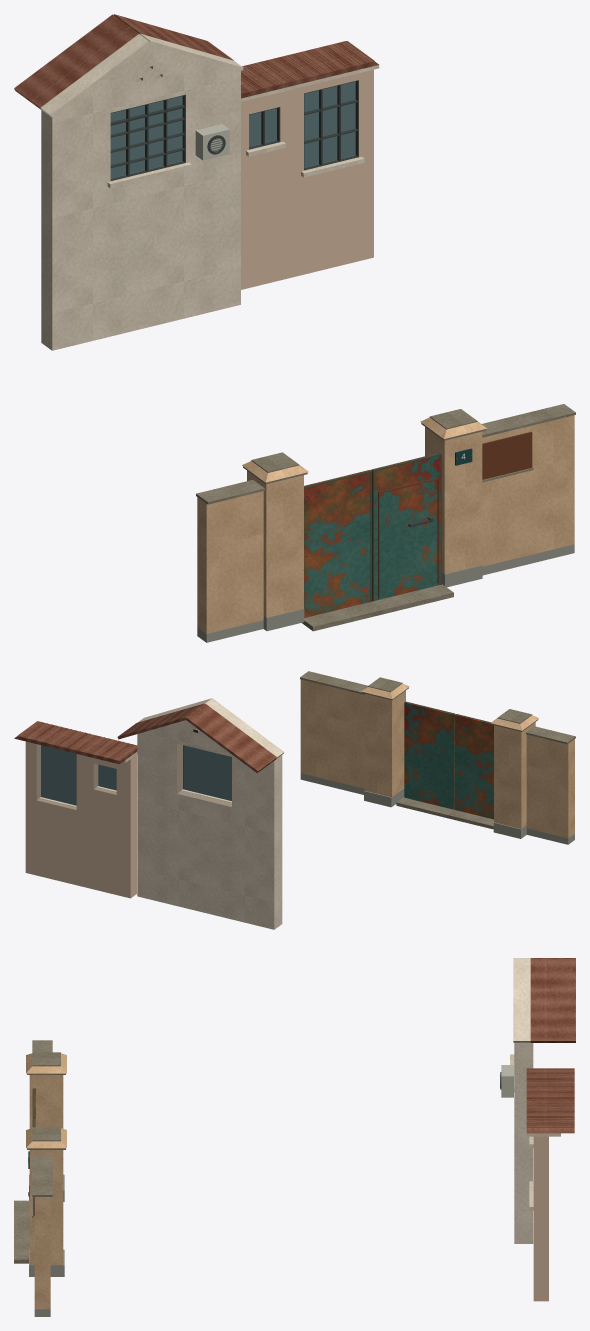
File: full.glb
The picture shows the model from 3 angles, top to bottom: view 1: azimuth 30°, elevation 25°; view 2: azimuth 150°, elevation 25°; view 3: azimuth 270°, elevation 25°; orthographic projection. The views are drawn at different scales.
Parts seen in each view (by area): view 1: 10.front-render-wall, 15.east-wing, 03.east-wall, 03.west-wall, 02.west-painted-iron-leaf, 02.east-painted-iron-leaf, 01.East-rendered-gatepost, 01.West-rendered-gatepost, 13.clay-roof-return, 15.east-wing-tiled-roof, 11.four-light-steel-window-glass, 15.wing-tall-window-glass (+15 smaller); view 2: 10.front-render-wall, 15.east-wing, 03.east-wall, 01.East-rendered-gatepost, 03.west-wall, 02.east-painted-iron-leaf, 01.West-rendered-gatepost, 02.west-painted-iron-leaf, 13.clay-roof-return, 15.east-wing-tiled-roof, 11.four-light-steel-window-glass, 15.wing-tall-window-glass (+7 smaller); view 3: 13.clay-roof-return, 10.front-render-wall, 01.East-rendered-gatepost, 15.east-wing-tiled-roof, 01.West-rendered-gatepost, 15.east-wing, 03.east-wall, 15.tiled-edge, 10.gable-edge, 00.threshold, 03.east-coping.
Part boxes in pixels (x1,y1,x2,y2): 10.front-render-wall: (41,70,240,350); 15.east-wing: (241,69,373,289); 03.east-wall: (482,415,574,575); 03.west-wall: (197,491,263,642); 02.west-painted-iron-leaf: (304,470,370,617); 02.east-painted-iron-leaf: (371,453,440,600); 01.East-rendered-gatepost: (420,409,486,587); 01.West-rendered-gatepost: (242,452,308,631); 13.clay-roof-return: (14,14,233,109); 15.east-wing-tiled-roof: (241,41,378,98); 11.four-light-steel-window-glass: (110,96,182,178); 15.wing-tall-window-glass: (304,81,355,167); 10.front-render-wall: (137,729,282,929); 15.east-wing: (25,741,136,898); 03.east-wall: (300,679,364,794); 01.East-rendered-gatepost: (361,677,409,807); 03.west-wall: (526,734,574,844); 02.east-painted-iron-leaf: (404,702,454,809); 01.West-rendered-gatepost: (491,709,538,838); 02.west-painted-iron-leaf: (455,714,493,819); 13.clay-roof-return: (117,703,276,772); 15.east-wing-tiled-roof: (14,721,137,764); 11.four-light-steel-window-glass: (183,745,231,800); 15.wing-tall-window-glass: (41,745,76,805); 13.clay-roof-return: (530,958,575,1042); 10.front-render-wall: (514,1042,533,1243); 01.East-rendered-gatepost: (26,1127,66,1276); 15.east-wing-tiled-roof: (526,1068,574,1133); 01.West-rendered-gatepost: (26,1052,66,1201); 15.east-wing: (533,1136,548,1301); 03.east-wall: (34,1197,50,1316); 15.tiled-edge: (526,1069,573,1127); 10.gable-edge: (513,958,530,1042); 00.threshold: (14,1200,29,1263); 03.east-coping: (32,1155,52,1196).
Size of the model in its own units: 7.56 by 5.47 by 9.32.
Materials: 20 (5 with a texture image).
